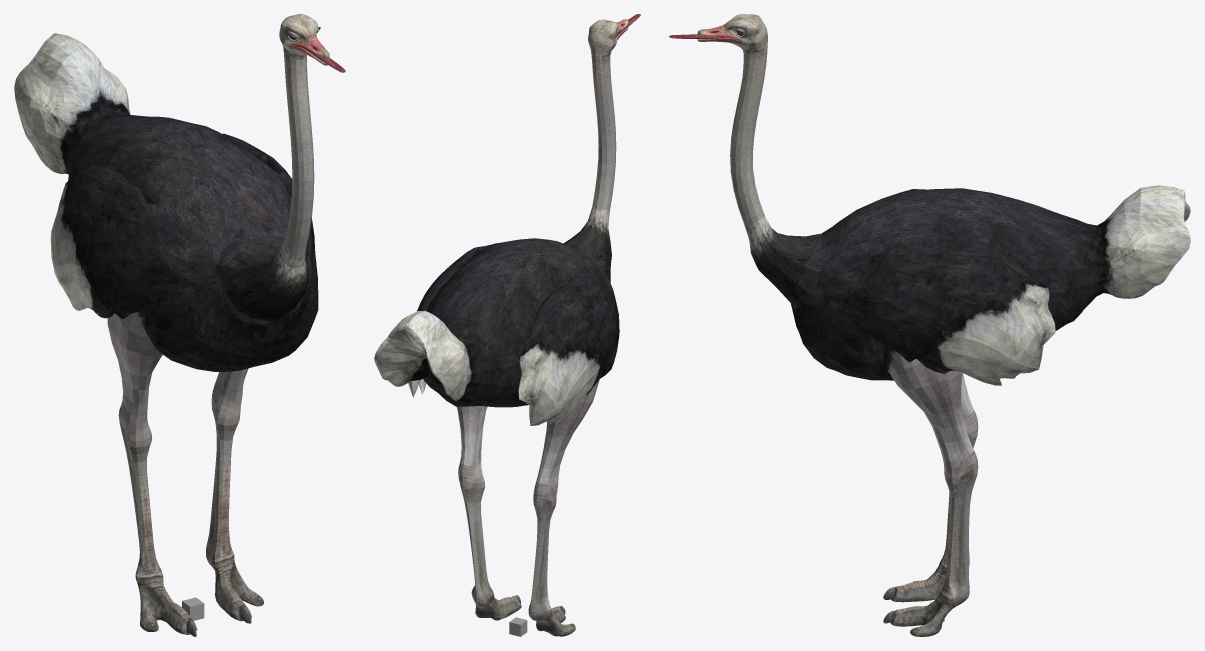
File: ostrich.obj
3 views of the same model, side by side, from view 1: azimuth 30°, elevation 25°; view 2: azimuth 150°, elevation 25°; view 3: azimuth 270°, elevation 25° (orthographic). The views are drawn at different scales.
Parts seen in each view (by area): view 1: Ostrich; view 2: Ostrich; view 3: Ostrich.
Boxes of the visible parts, left/top/right/bottom form: Ostrich: left=14, top=14, right=345, bottom=636; Ostrich: left=374, top=14, right=640, bottom=636; Ostrich: left=669, top=14, right=1190, bottom=636.
Size of the model in its own units: 29.12 by 90.66 by 71.33.
2 materials, 1 textured.
